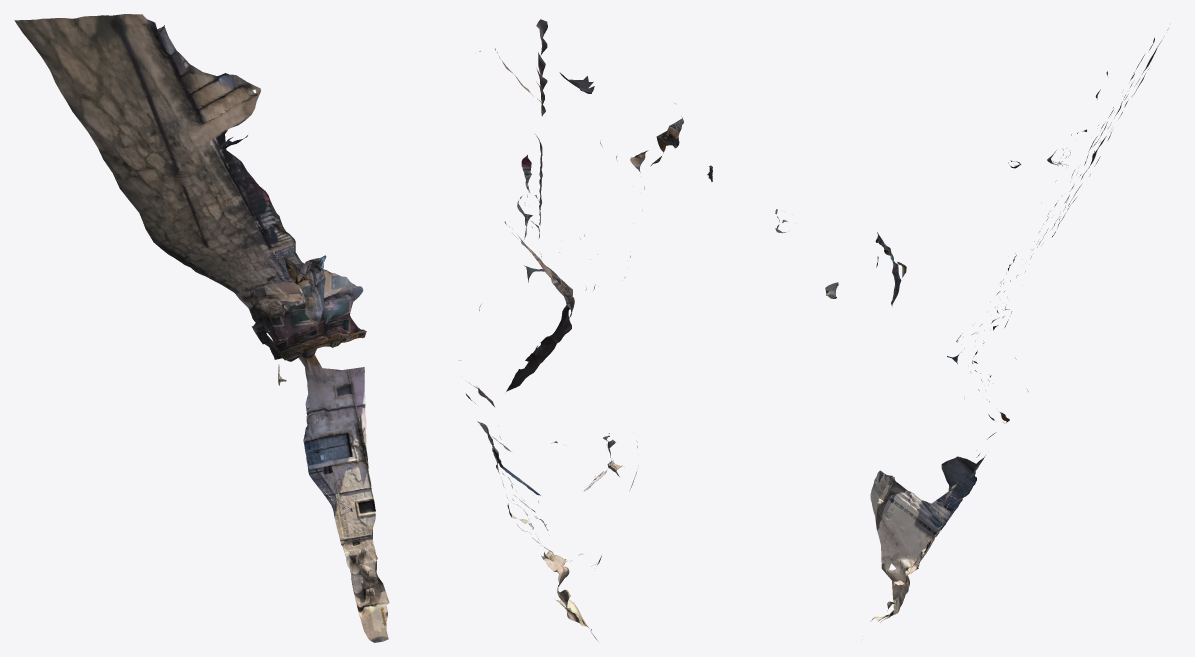
The model's file is 24_3_2026-Muro3.glb.
3 renders of one model, left to right at view 1: azimuth 30°, elevation 25°; view 2: azimuth 150°, elevation 25°; view 3: azimuth 270°, elevation 25°, orthographic. The views are drawn at different scales.
Bounding box in the file's own units: 9.63 × 20 × 12.09.
Materials: 1 (1 with a texture image).
